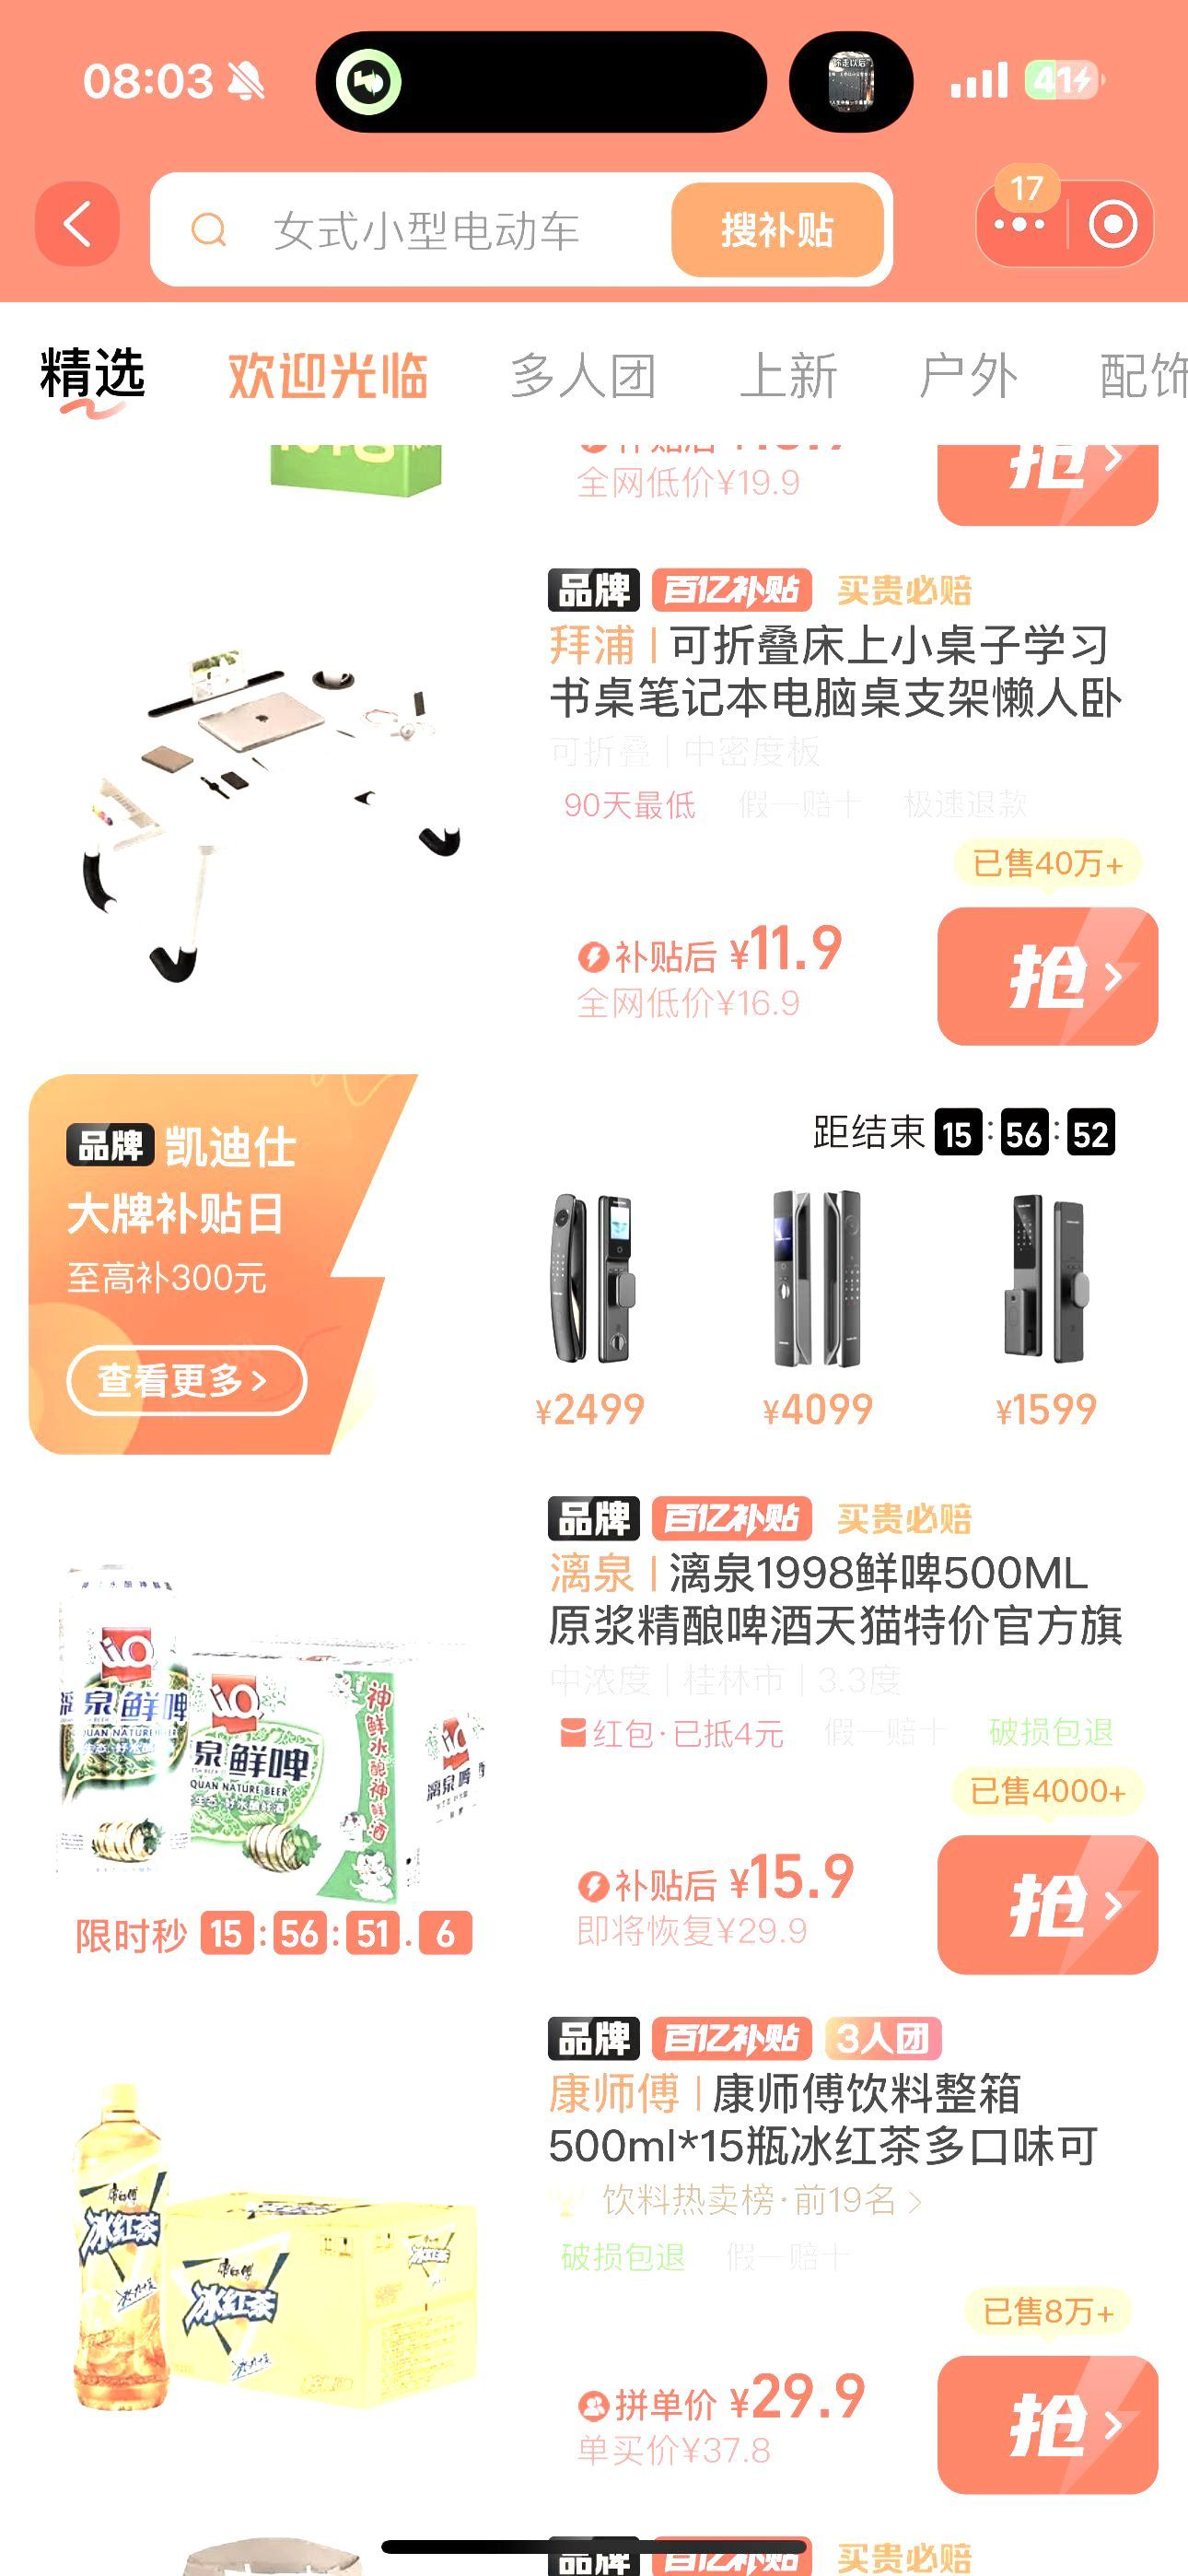banner: (16, 1069, 1181, 1477)
item: (13, 1490, 1186, 2003), (20, 552, 1183, 1058), (13, 2012, 1181, 2510)
op_bar: (5, 146, 1186, 296)
